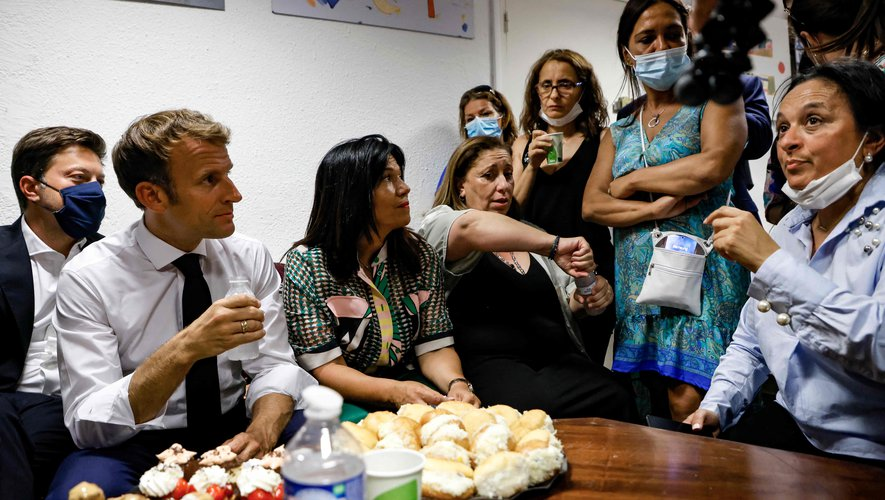with_incorrect_mask: (768, 95, 863, 201), (537, 69, 579, 131)
with_mask: (43, 150, 106, 240), (632, 10, 687, 85), (461, 98, 505, 137)
without_mask: (176, 148, 242, 245), (368, 157, 413, 231), (473, 151, 516, 215)
